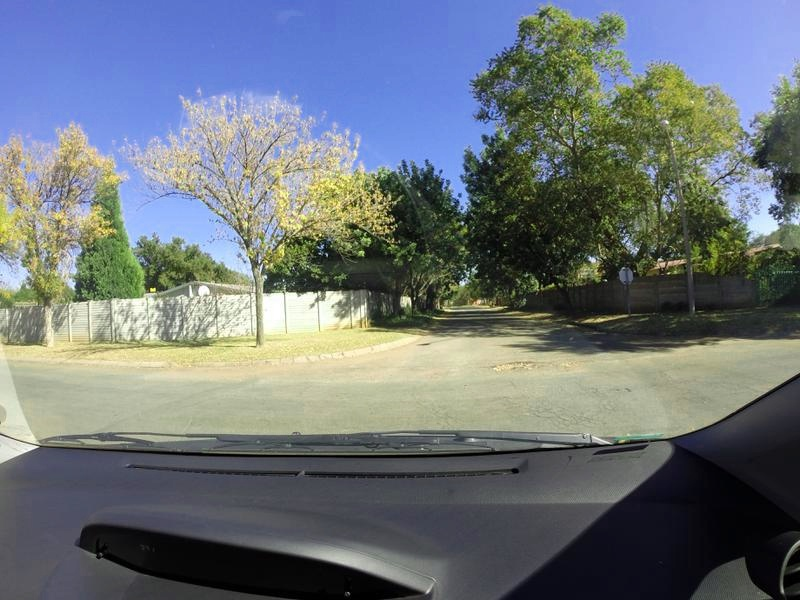pothole: (477, 354, 602, 382)
